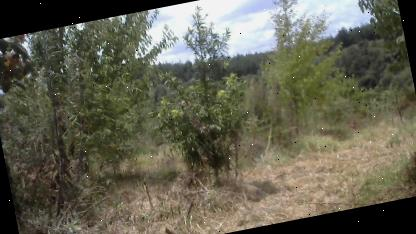tree: (14, 8, 190, 207), (245, 0, 360, 152), (148, 56, 266, 192)
